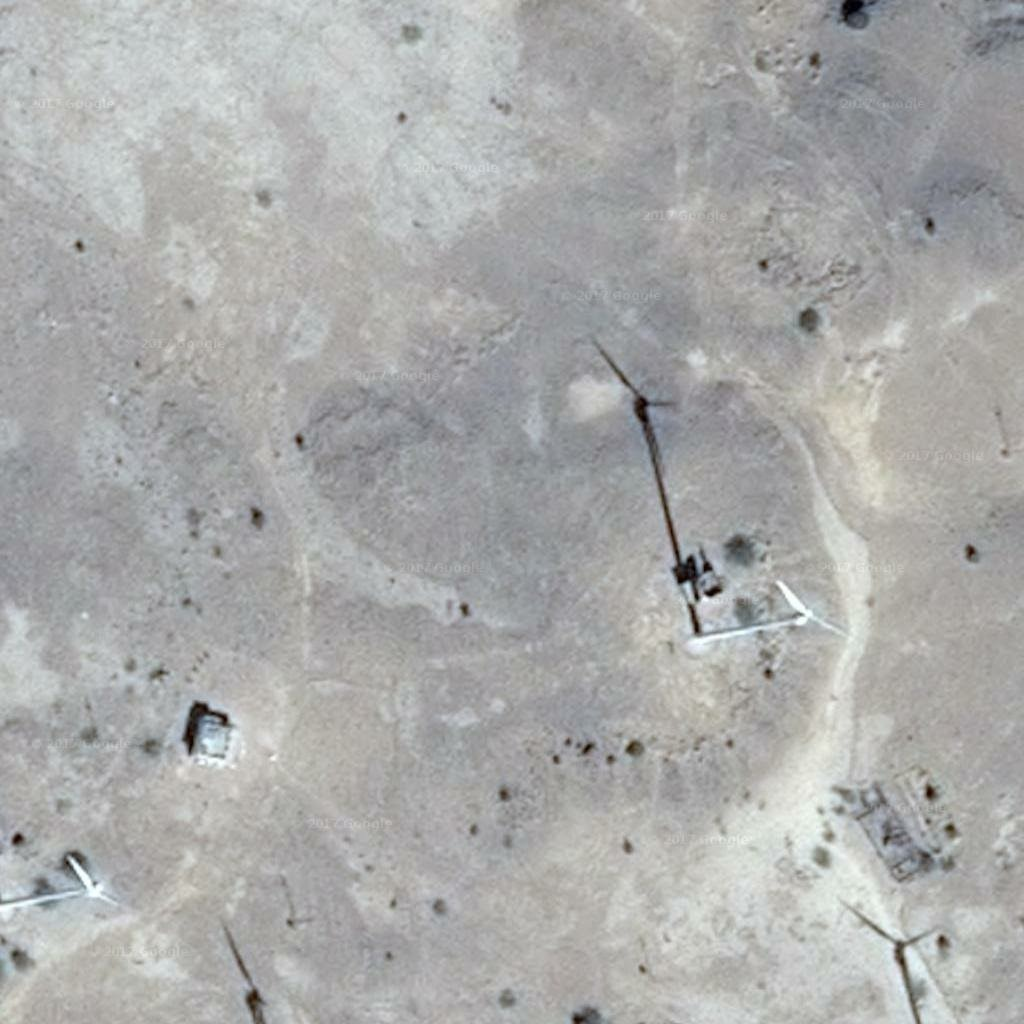Windmill: (588, 326, 714, 574)
